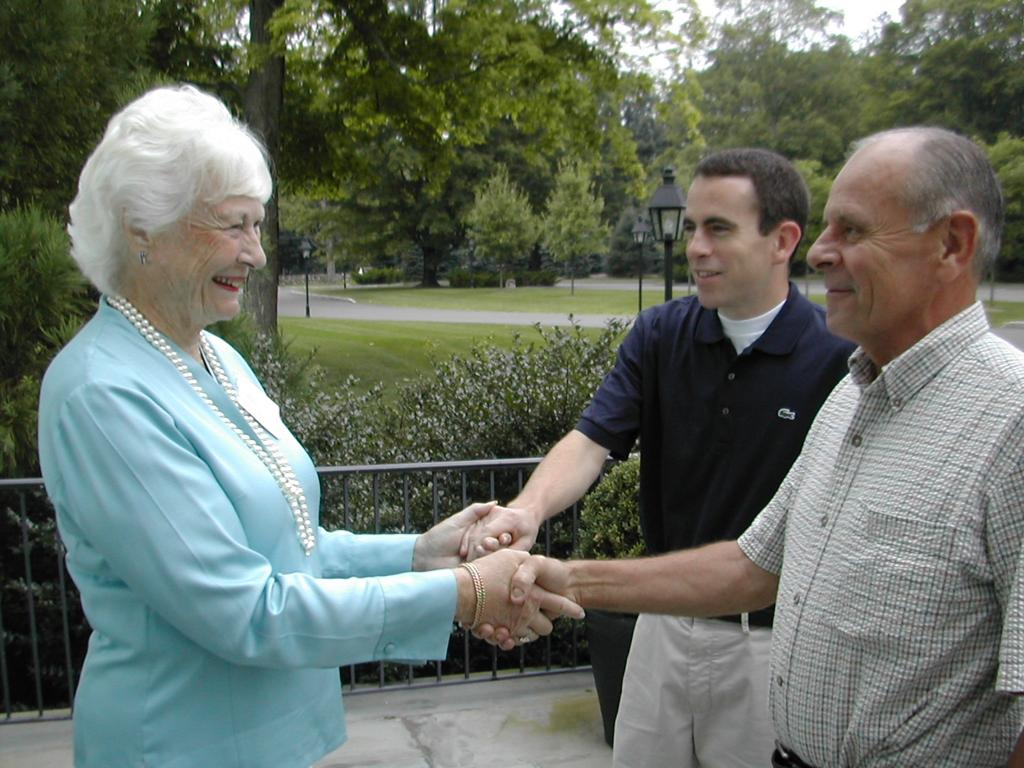face: (808, 156, 932, 336), (166, 156, 268, 318), (686, 174, 770, 310)
